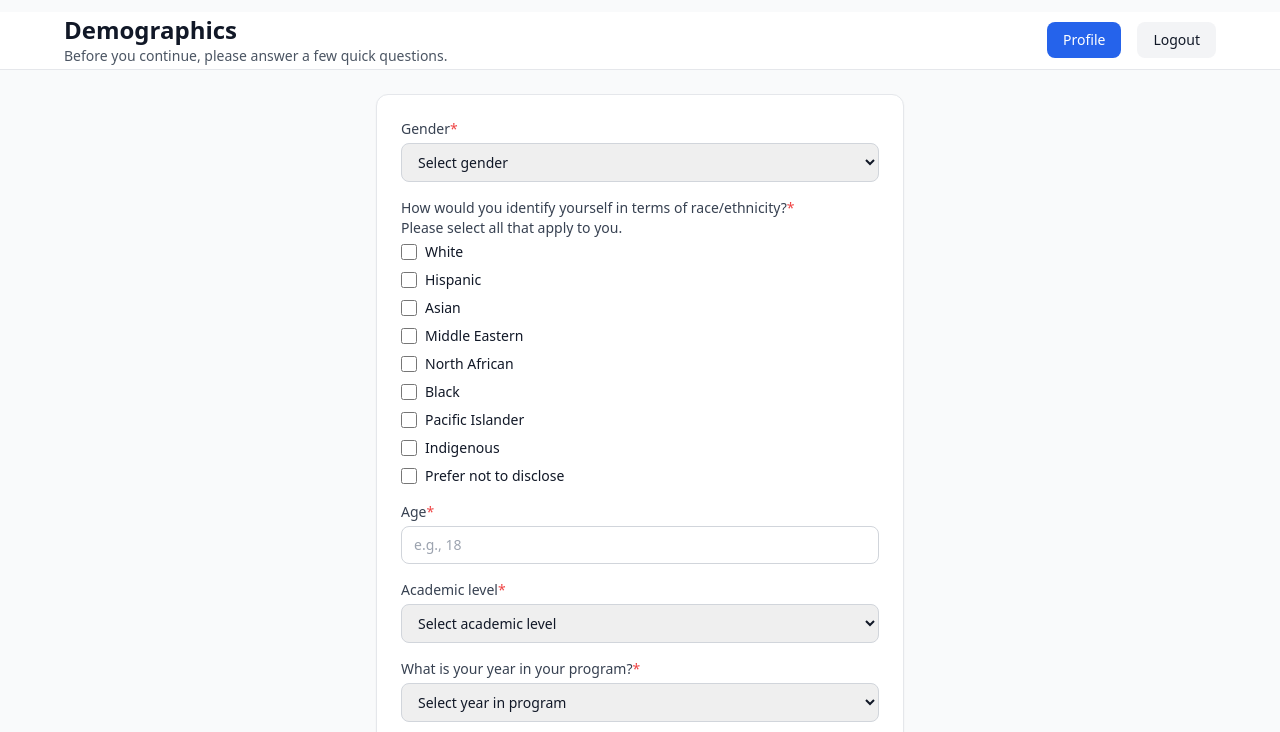
DemographicsPage › shows a self-describe input when gender is Other
Expected: the heading "Demographics" is shown, [64,13,237,46]
Select "Self-describe" in the dropdown below "Gender": (640, 162) [401,143,879,182]
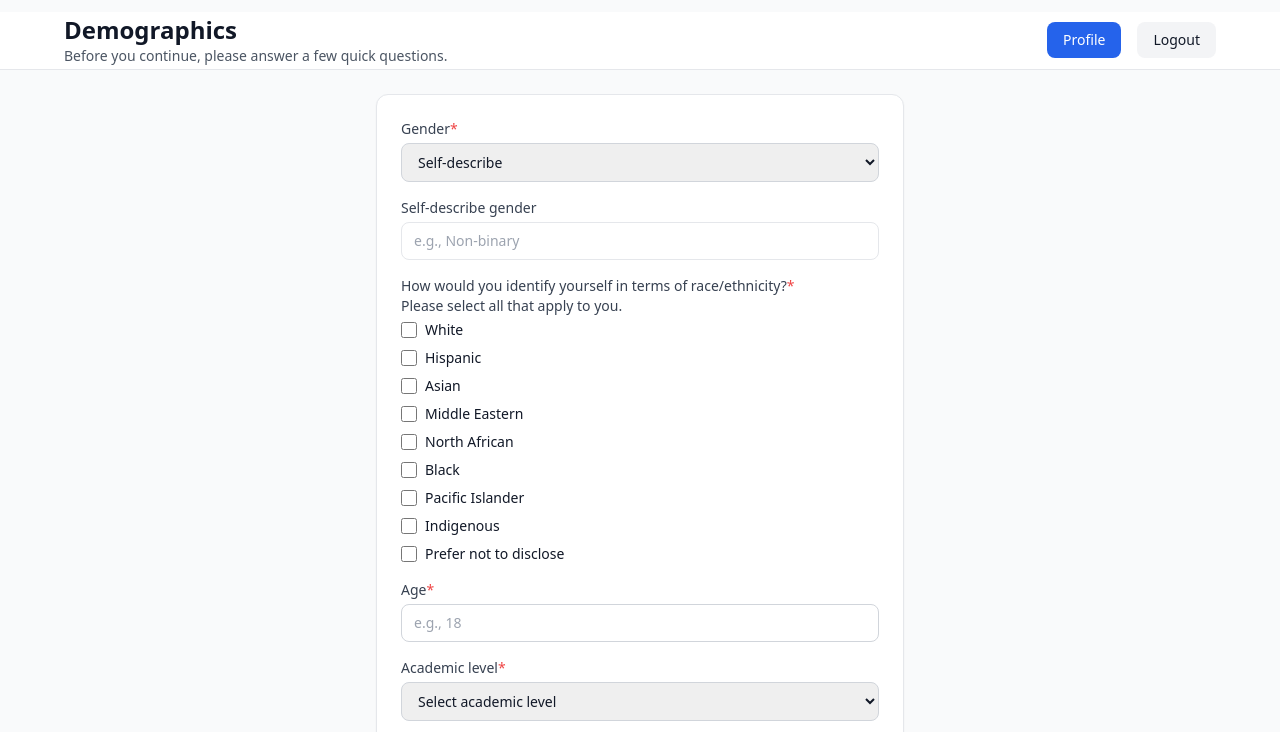
Now the field with placeholder "e.g., Non-binary" is shown, box [401,222,879,260]
